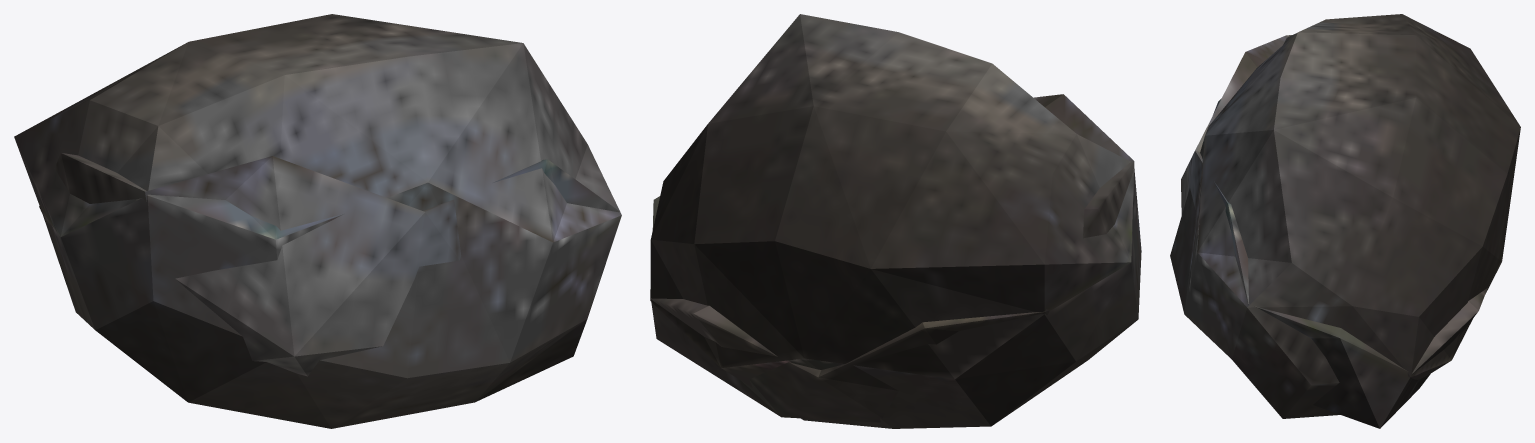
File: GeodeAnchor.fbx
3 views of the same model, side by side, from view 1: azimuth 30°, elevation 25°; view 2: azimuth 150°, elevation 25°; view 3: azimuth 270°, elevation 25° (orthographic). The views are drawn at different scales.
Parts seen in each view (by area): view 1: Geode_Whole, Geode_HalfA, Geode_HalfB; view 2: Geode_Whole, Geode_HalfA, Geode_HalfB; view 3: Geode_Whole, Geode_HalfB, Geode_HalfA.
Boxes of the visible parts, x1,y1,x2,y2 form: Geode_Whole: [14, 14, 621, 428]; Geode_HalfA: [42, 182, 621, 428]; Geode_HalfB: [39, 153, 619, 376]; Geode_Whole: [650, 14, 1141, 428]; Geode_HalfA: [721, 217, 1141, 428]; Geode_HalfB: [651, 94, 1134, 422]; Geode_Whole: [1171, 14, 1520, 418]; Geode_HalfB: [1181, 35, 1487, 428]; Geode_HalfA: [1170, 136, 1450, 418].
Bounding box in the file's own units: 21.92 × 15.18 × 15.6.
